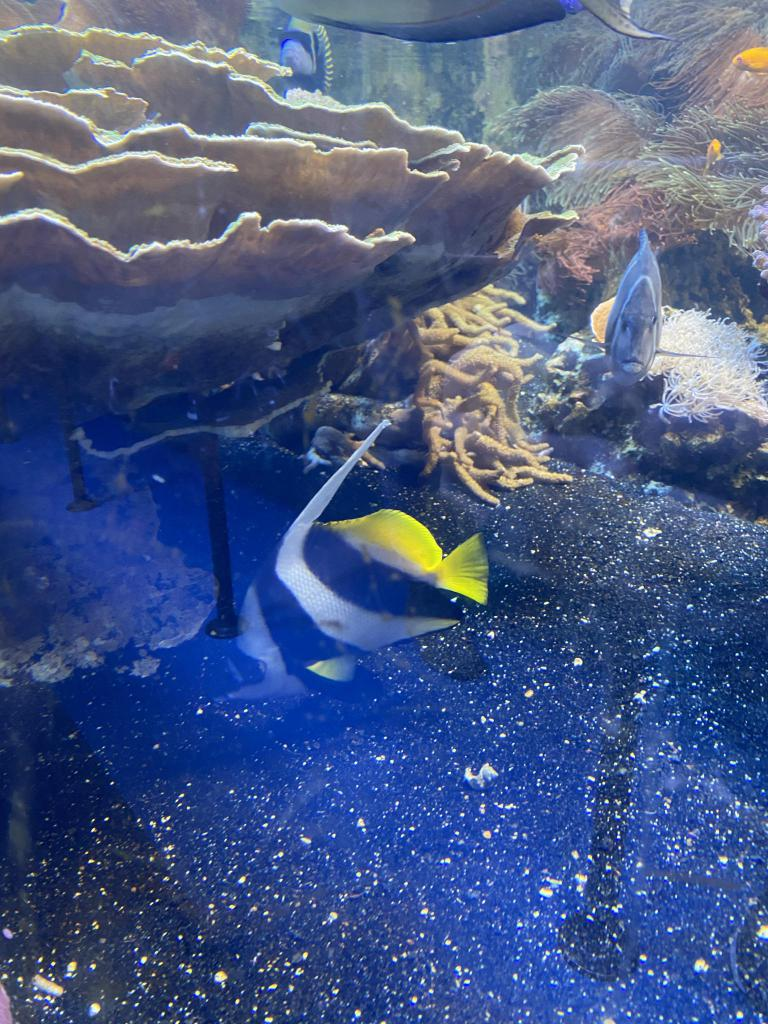fish: (216, 508, 490, 704), (600, 230, 666, 390), (280, 9, 334, 101), (734, 46, 768, 76), (704, 134, 724, 176)
